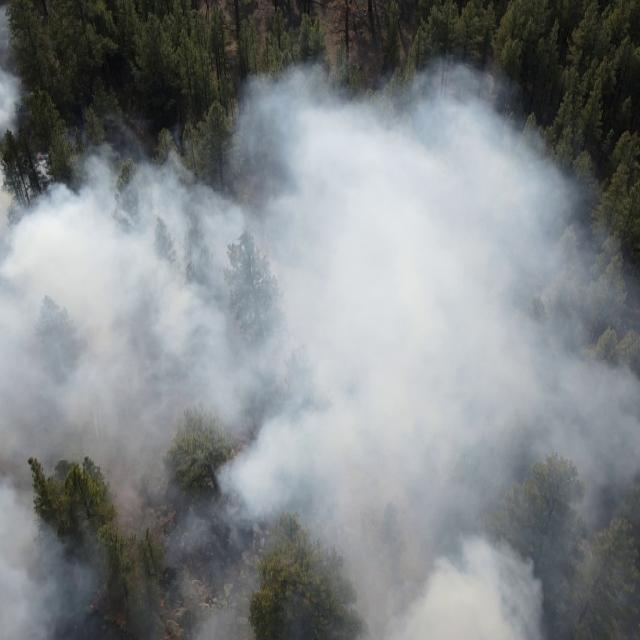fire: (157, 594, 168, 610), (85, 602, 98, 612)
smoke: (234, 61, 520, 640), (0, 114, 234, 640), (520, 264, 640, 640), (521, 184, 615, 262), (0, 7, 23, 142), (521, 151, 568, 184), (522, 125, 544, 151)
